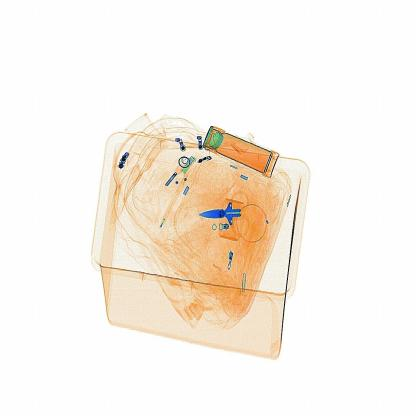gun: (195, 186, 265, 234)
